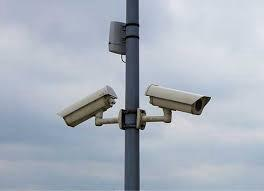Speed-Camera: (56, 84, 119, 129), (143, 81, 215, 120)
